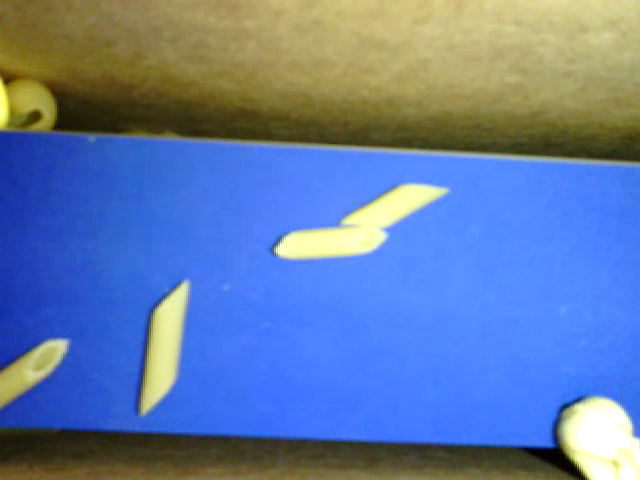penne: (136, 280, 191, 418), (338, 183, 456, 229), (2, 337, 71, 415), (272, 226, 389, 260)
shell: (1, 77, 59, 136)
tortellini: (558, 395, 639, 477)
